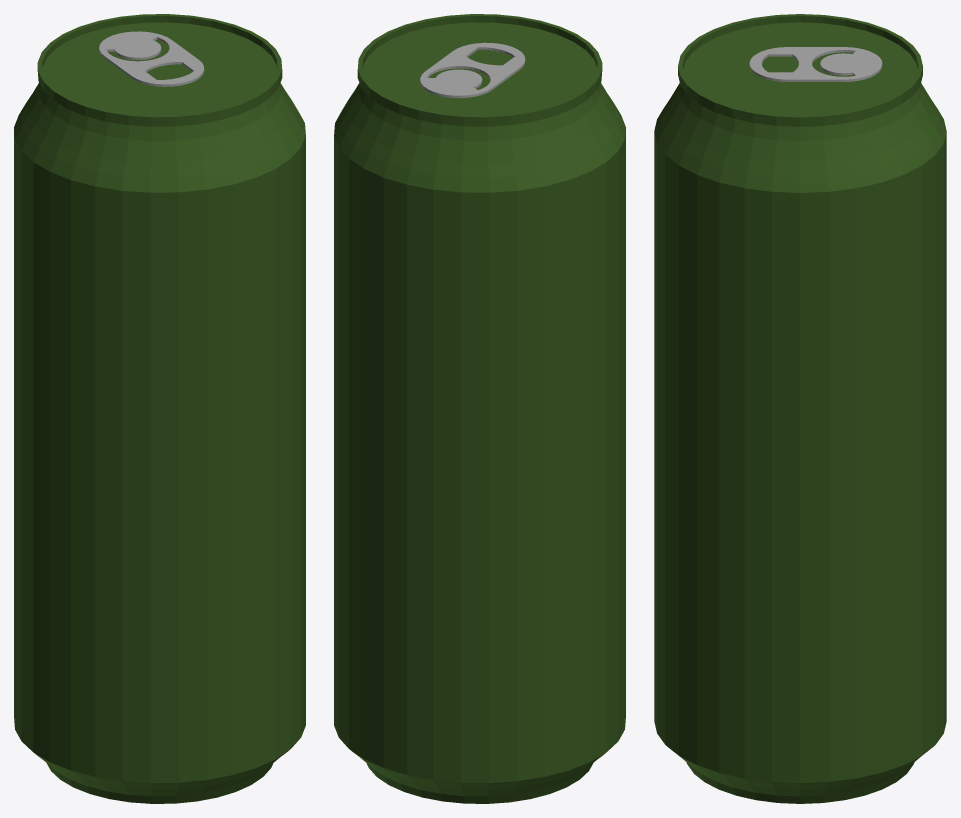
Rendered from lata-Voll.glb.
3 renders of one model, left to right at view 1: azimuth 30°, elevation 25°; view 2: azimuth 150°, elevation 25°; view 3: azimuth 270°, elevation 25°, orthographic.
Visible parts, largest first — view 1: Cilindro, Círculo; view 2: Cilindro, Círculo; view 3: Cilindro, Círculo.
Boxes of the visible parts, x1,y1,x2,y2 form: Cilindro: (14,14,305,803); Círculo: (99,31,204,86); Cilindro: (334,14,625,803); Círculo: (420,42,525,98); Cilindro: (654,14,946,803); Círculo: (749,47,882,81).
Bounding box in the file's own units: 1.65 × 4.3 × 1.65.
